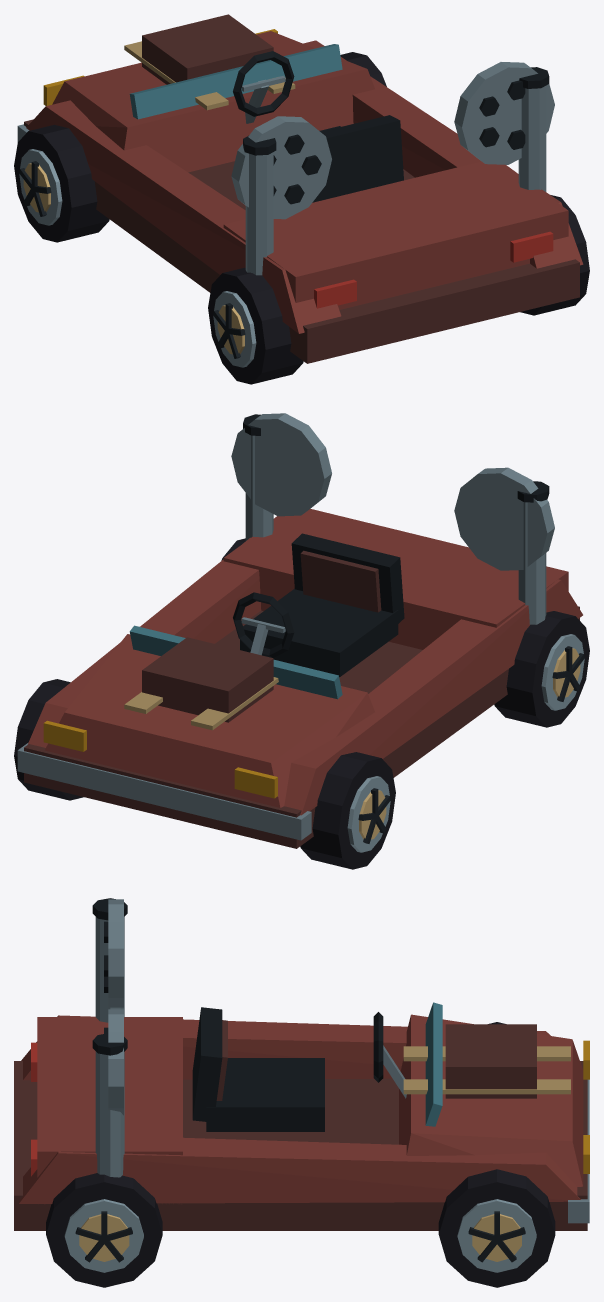
The model's file is kart.glb.
The picture shows the model from 3 angles, top to bottom: view 1: azimuth 30°, elevation 25°; view 2: azimuth 150°, elevation 25°; view 3: azimuth 270°, elevation 25°; orthographic projection.
Parts seen in each view (by area): view 1: identity-muscle-car-muscle-car-road-car-body, identity-muscle-car-motif-film, wheel-front-left, wheel-rear-left, identity-muscle-car-driver-cockpit, identity-muscle-car-motif-exhaust, wheel-rear-right, wheel-front-right; view 2: identity-muscle-car-muscle-car-road-car-body, identity-muscle-car-driver-cockpit, identity-muscle-car-motif-film, wheel-front-left, wheel-rear-left, identity-muscle-car-motif-exhaust, wheel-front-right; view 3: identity-muscle-car-muscle-car-road-car-body, identity-muscle-car-driver-cockpit, wheel-front-right, wheel-rear-right, identity-muscle-car-motif-exhaust, identity-muscle-car-motif-film.
Part boxes in pixels (<box>): identity-muscle-car-muscle-car-road-car-body: <box>17,14,583,363</box>; identity-muscle-car-motif-film: <box>231,62,554,219</box>; wheel-front-left: <box>14,124,109,242</box>; wheel-rear-left: <box>208,267,303,384</box>; identity-muscle-car-driver-cockpit: <box>233,51,403,202</box>; identity-muscle-car-motif-exhaust: <box>243,67,549,275</box>; wheel-rear-right: <box>520,195,589,315</box>; wheel-front-right: <box>340,52,386,86</box>; identity-muscle-car-muscle-car-road-car-body: <box>17,509,582,848</box>; identity-muscle-car-driver-cockpit: <box>233,533,404,677</box>; identity-muscle-car-motif-film: <box>231,413,554,570</box>; wheel-front-left: <box>300,752,395,869</box>; wheel-rear-left: <box>494,611,589,727</box>; identity-muscle-car-motif-exhaust: <box>243,414,549,624</box>; wheel-front-right: <box>14,679,83,800</box>; identity-muscle-car-muscle-car-road-car-body: <box>14,1002,589,1230</box>; identity-muscle-car-driver-cockpit: <box>192,1007,406,1131</box>; wheel-front-right: <box>438,1169,555,1287</box>; wheel-rear-right: <box>46,1173,162,1287</box>; identity-muscle-car-motif-exhaust: <box>92,898,127,1177</box>; identity-muscle-car-motif-film: <box>104,899,123,1115</box>.
Bounding box in the file's own units: 2.07 × 1.41 × 2.96.
